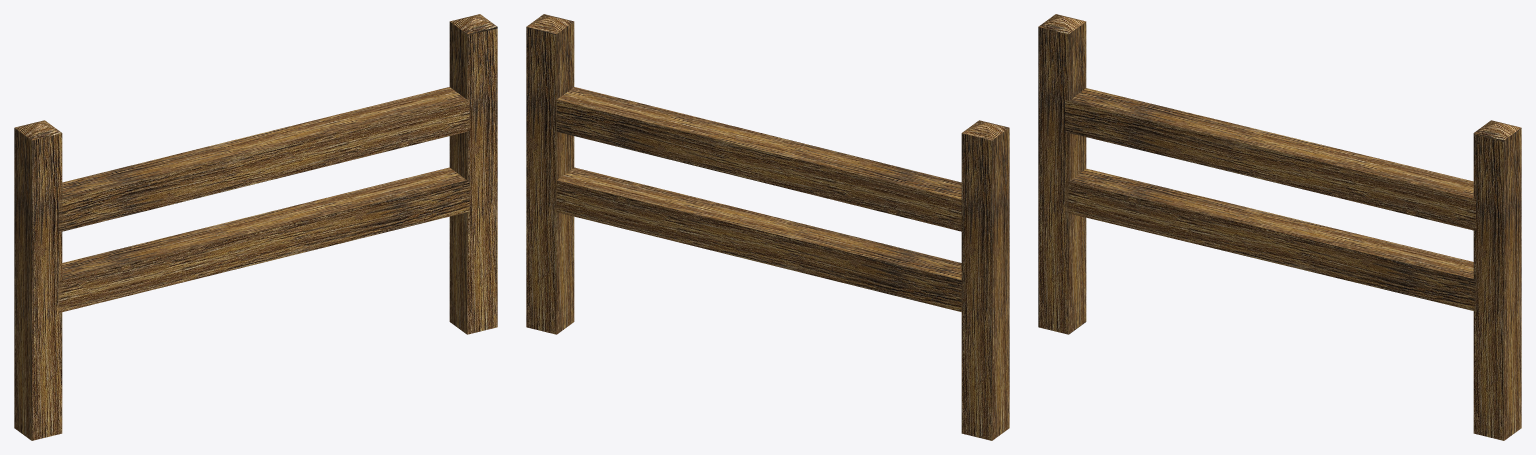
Rendered from Fence.fbx.
3 views of the same model, side by side, from view 1: azimuth 30°, elevation 25°; view 2: azimuth 150°, elevation 25°; view 3: azimuth 330°, elevation 25° (orthographic).
Parts seen in each view (by area): view 1: Fence; view 2: Fence; view 3: Fence.
Part boxes in pixels (x1,y1,x2,y2): Fence: [14, 14, 497, 440]; Fence: [526, 14, 1009, 440]; Fence: [1038, 14, 1521, 440].
Bounding box in the file's own units: 299 × 189 × 19.61.
